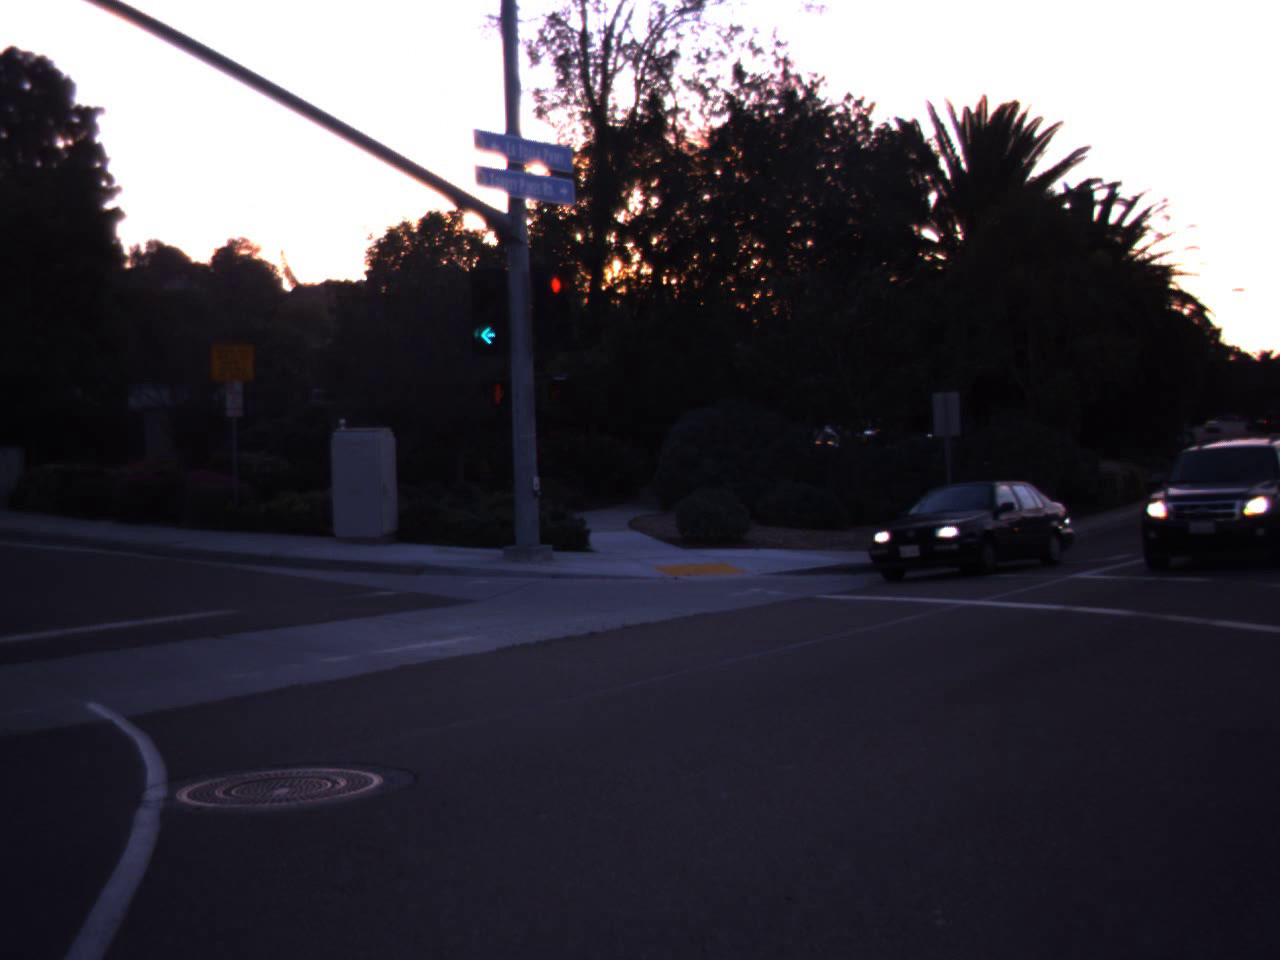go: (460, 266, 514, 351)
